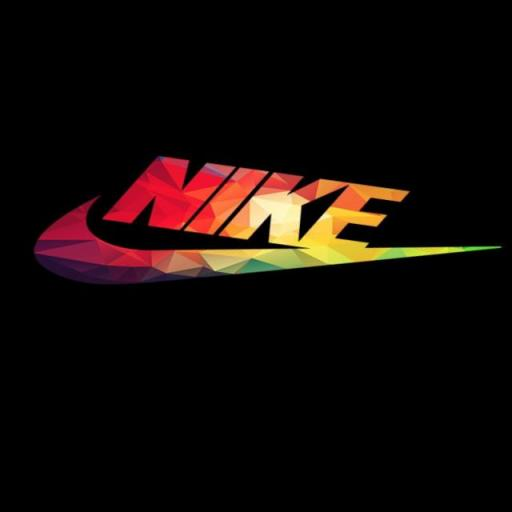Nike: (25, 202, 413, 332), (96, 145, 414, 266)
